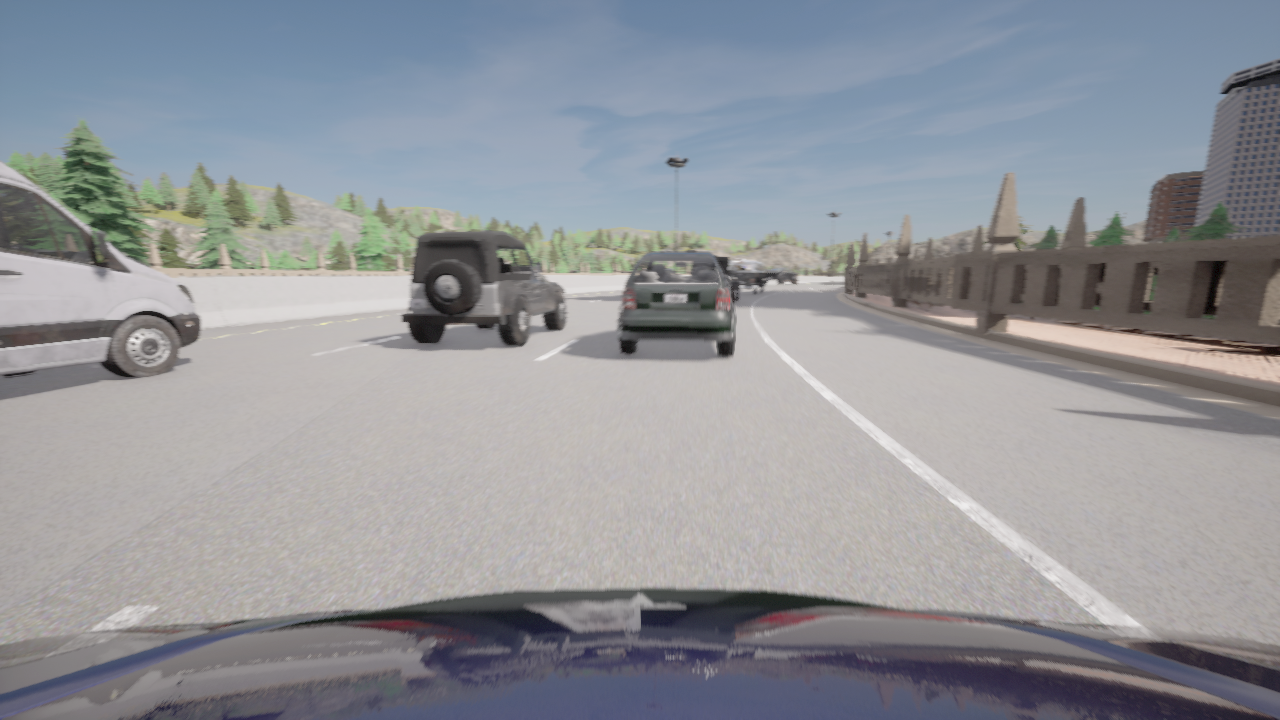cyclist: (0, 588, 1279, 719), (400, 231, 565, 345), (617, 252, 734, 356), (730, 260, 767, 294), (714, 256, 739, 305), (765, 268, 796, 284), (730, 259, 751, 262)
